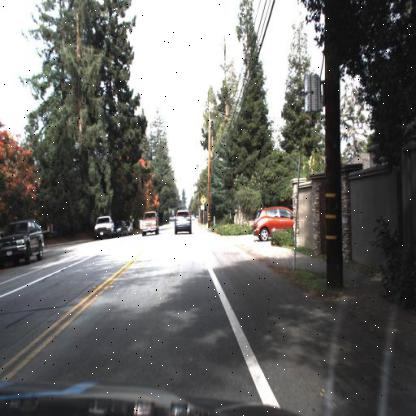car: (249, 196, 296, 245), (1, 220, 45, 267), (252, 207, 296, 238), (90, 208, 116, 241), (138, 206, 164, 238), (172, 207, 193, 237), (92, 214, 115, 238), (140, 210, 159, 237), (112, 216, 128, 240), (112, 219, 128, 238)
